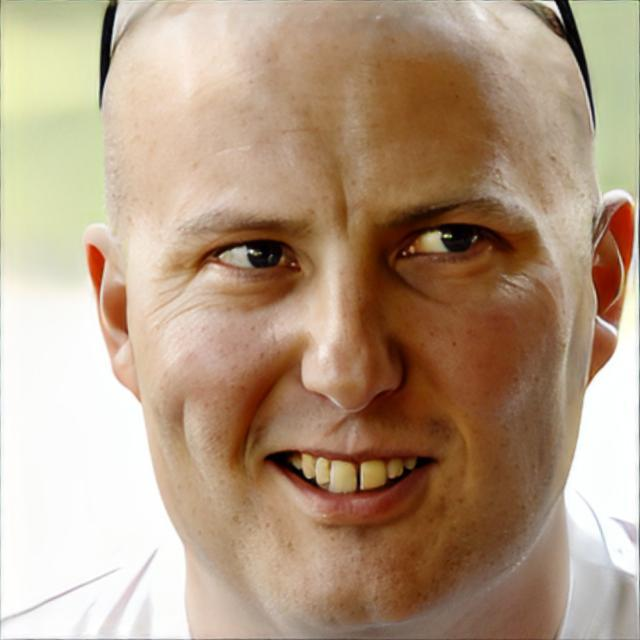content: (100, 0, 602, 630)
